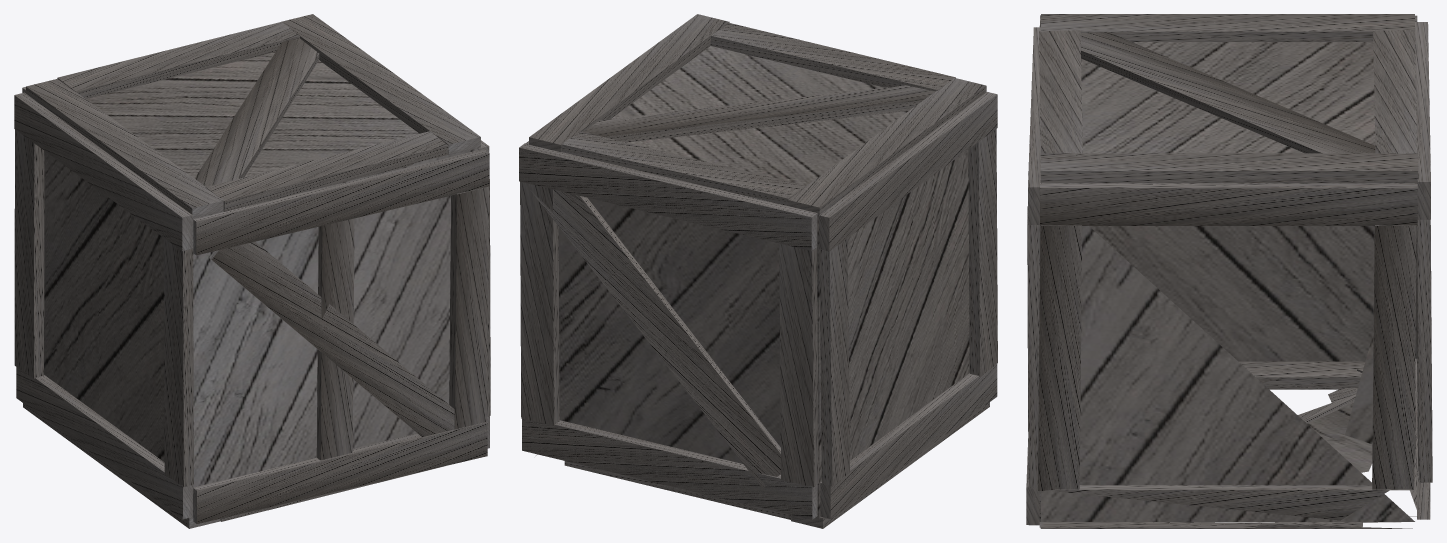
The model's file is CrateBroken.glb.
3 views of the same model, side by side, from view 1: azimuth 30°, elevation 25°; view 2: azimuth 150°, elevation 25°; view 3: azimuth 270°, elevation 25° (orthographic). The views are drawn at different scales.
Parts seen in each view (by area): view 1: ORIGINAL; view 2: ORIGINAL; view 3: ORIGINAL.
Boxes of the visible parts, <box> form: ORIGINAL: <box>14,14,490,528</box>; ORIGINAL: <box>519,14,997,528</box>; ORIGINAL: <box>1026,14,1432,528</box>.
Size of the model in its own units: 2.15 by 2.13 by 2.17.
4 materials, 4 textured.
